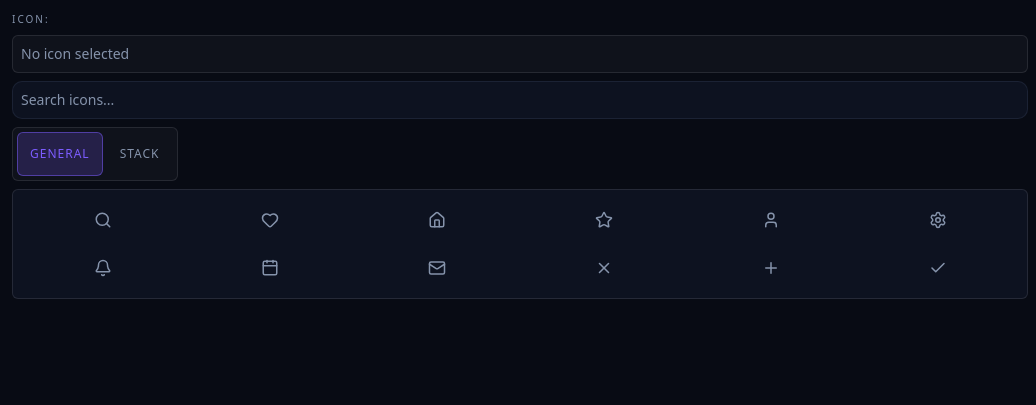
Test: IconPicker › renders with mode=all and value=null, selecting an icon shows recent and persists to localStorage
This screenshot has width=1036, height=405.
Expected: the text "Recent" is not shown
Click the button named "Search". click: click(102, 220)
box: [21,198,184,242]
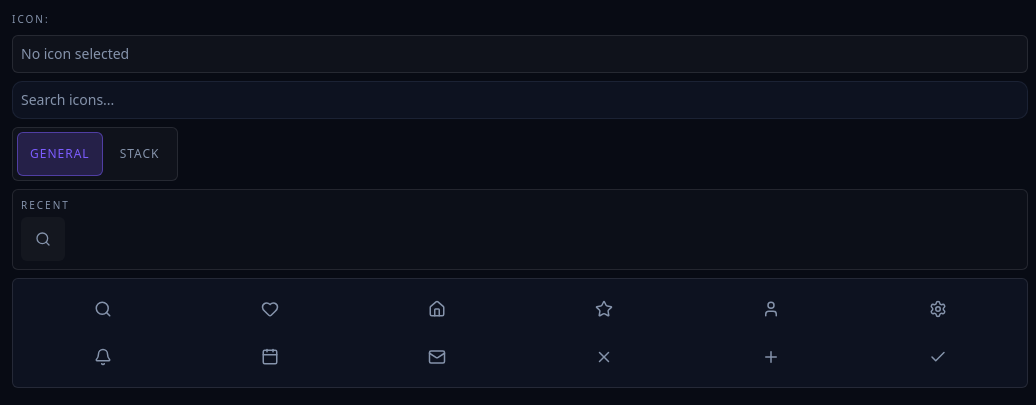
Now the text "Recent" is shown, box [21,198,70,212]
Now the button named "Recent Search" is shown, box [21,217,65,261]
